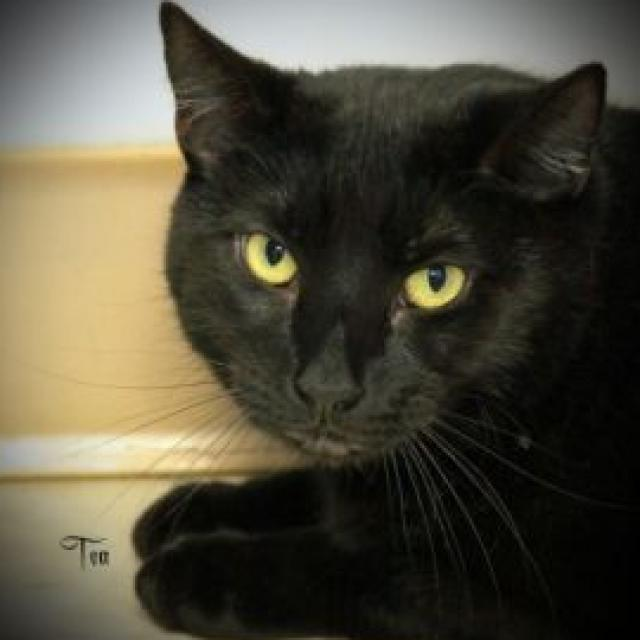Bombay: (128, 0, 640, 640)
